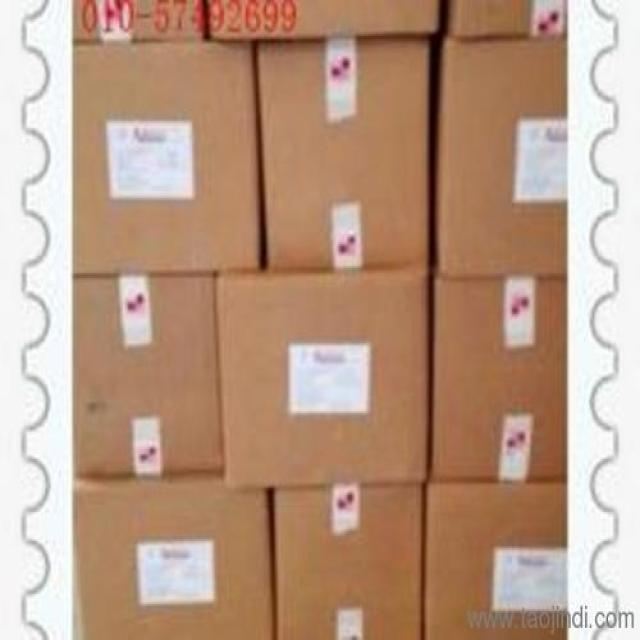box: (218, 265, 428, 491), (72, 40, 262, 273), (255, 38, 428, 268), (74, 480, 272, 637), (439, 37, 568, 273), (73, 273, 224, 474), (432, 273, 568, 482), (273, 483, 422, 638), (426, 482, 567, 638), (210, 1, 437, 39)
